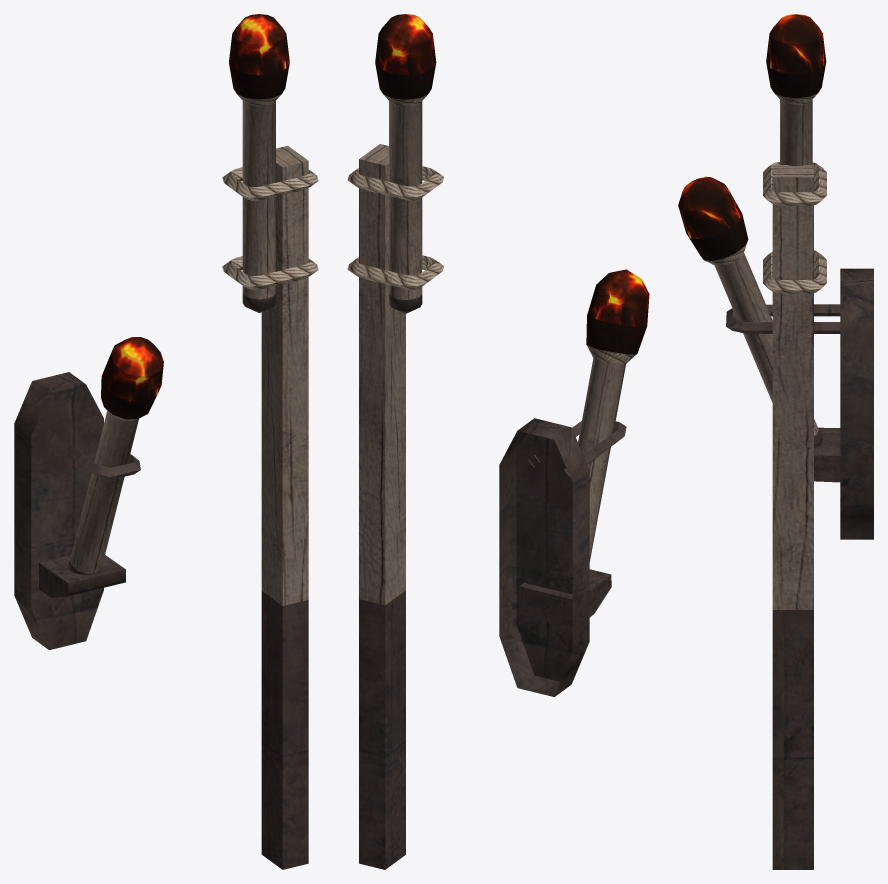
Rendered from torches.fbx.
3 views of the same model, side by side, from view 1: azimuth 30°, elevation 25°; view 2: azimuth 150°, elevation 25°; view 3: azimuth 270°, elevation 25° (orthographic).
Parts seen in each view (by area): view 1: torchstanding_1, torchwall; view 2: torchstanding_1, torchwall; view 3: torchstanding_1, torchwall.
Boxes of the visible parts, bbox=[...] form: torchstanding_1: bbox=[222, 14, 318, 869]; torchwall: bbox=[14, 337, 163, 650]; torchstanding_1: bbox=[347, 14, 443, 869]; torchwall: bbox=[499, 269, 649, 696]; torchstanding_1: bbox=[763, 14, 826, 869]; torchwall: bbox=[678, 176, 873, 539].
Size of the model in its own units: 75.95 by 242 by 51.25.
